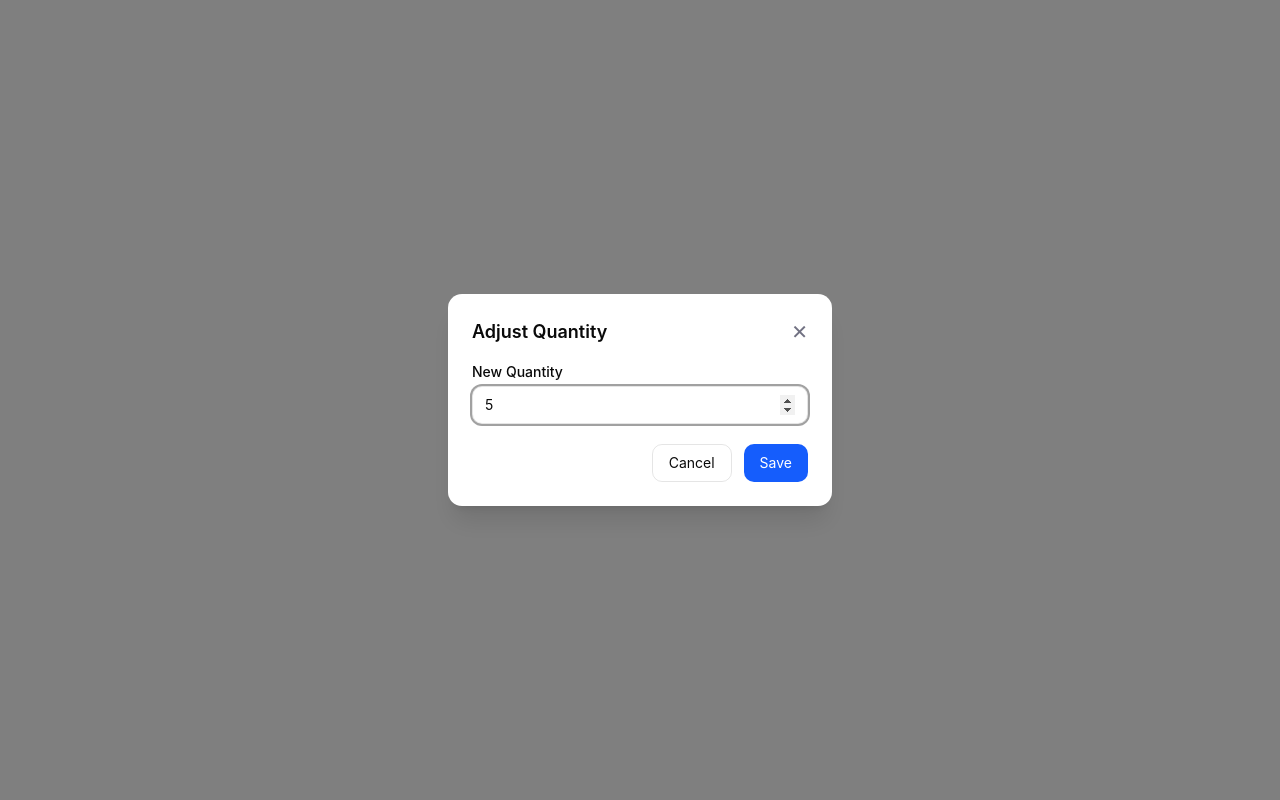
Scenario: AdjustQuantityModal › exact quantity mode › shows network error when fetch throws
Click the button "Save" at (776, 463), box 744,444 -> 808,482
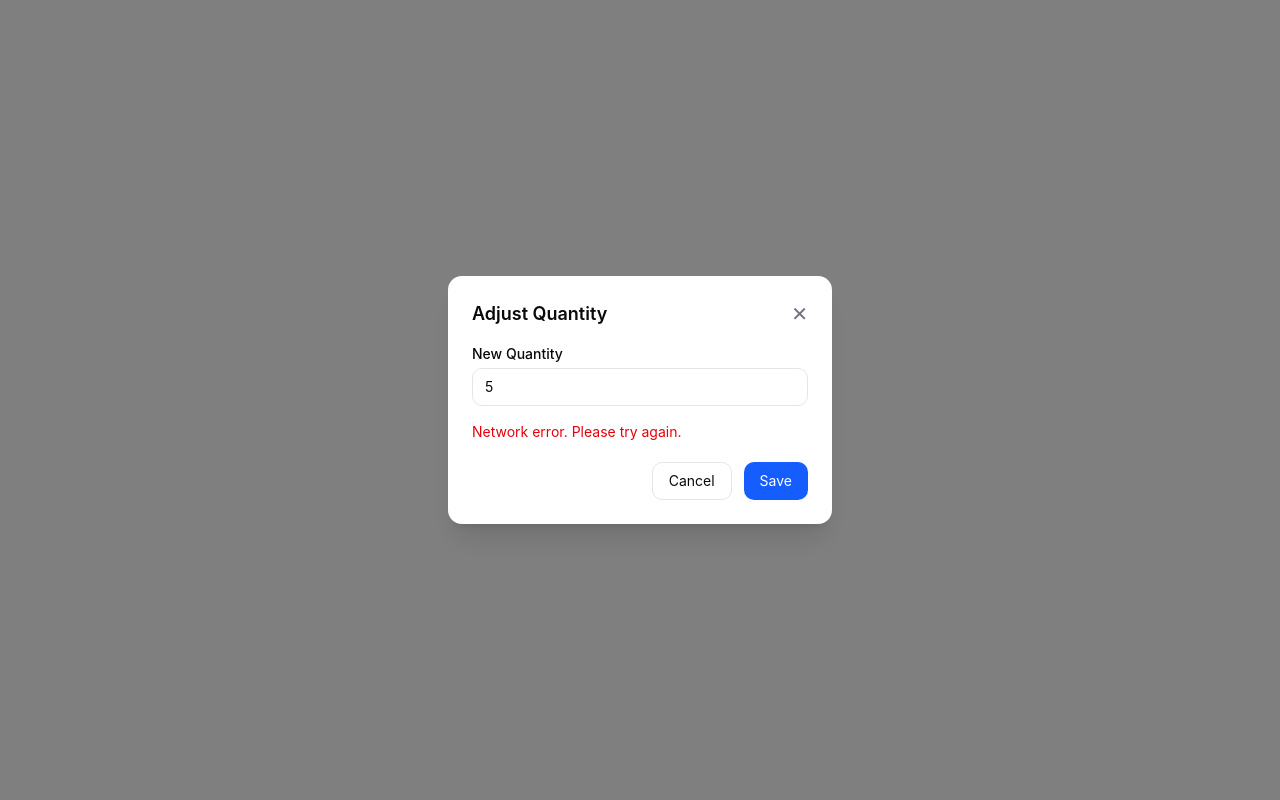
Check: the text "Network error. Please try again." is shown, box 472,423 -> 682,440
